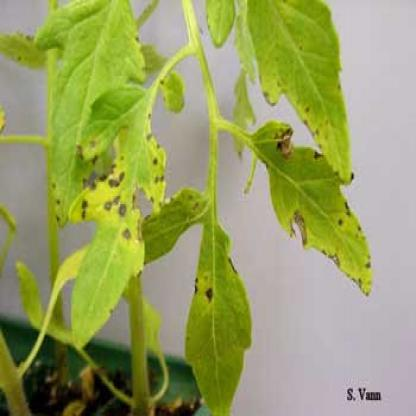Tomato leaf bacterial spot: (64, 81, 176, 353), (232, 111, 372, 301), (184, 202, 253, 414)
